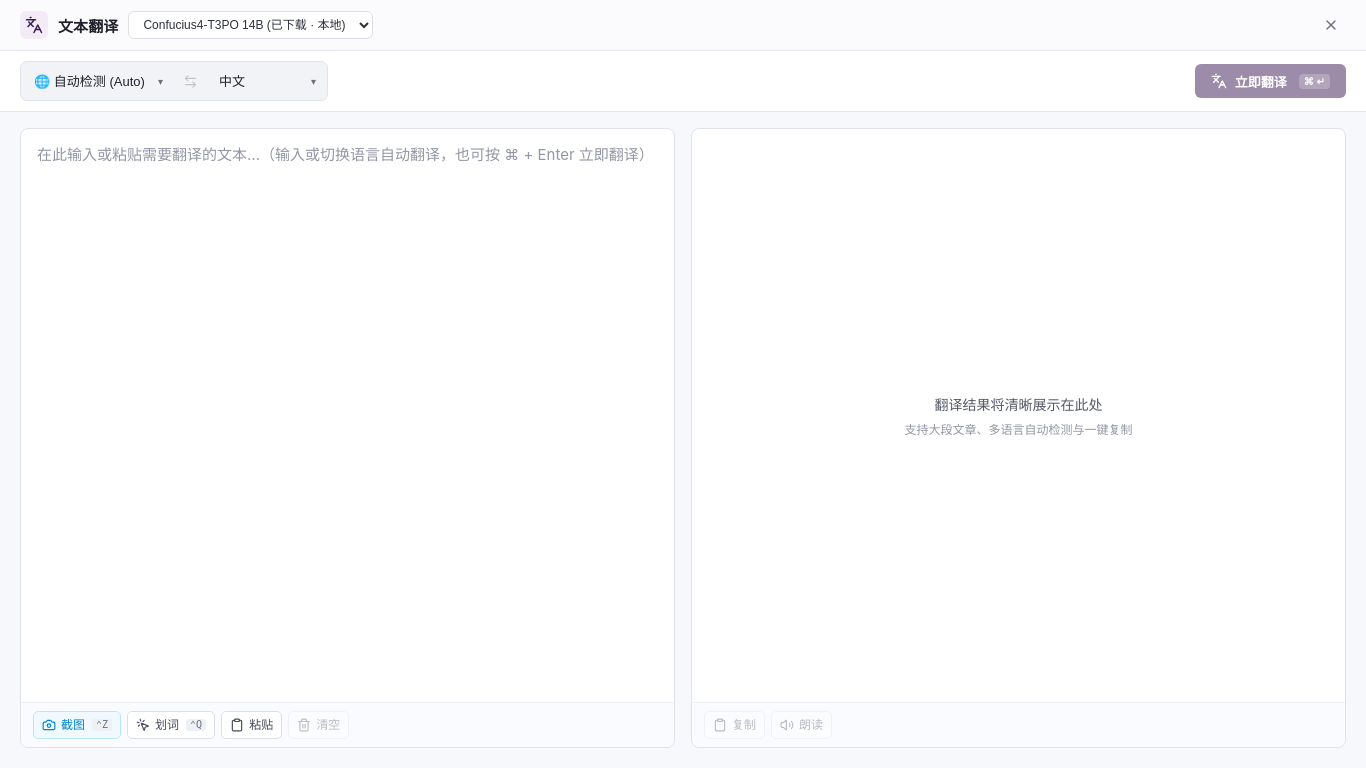
Test: TextTranslationView › translates input text when translate button is clicked
In the text box with placeholder "在此输入或粘贴需要翻译的文本...（输入或切换语言自动翻译，也可按 ⌘ + Enter 立即翻译）": point(348, 416) left=21, top=129, right=674, bottom=702, type "Hello world"
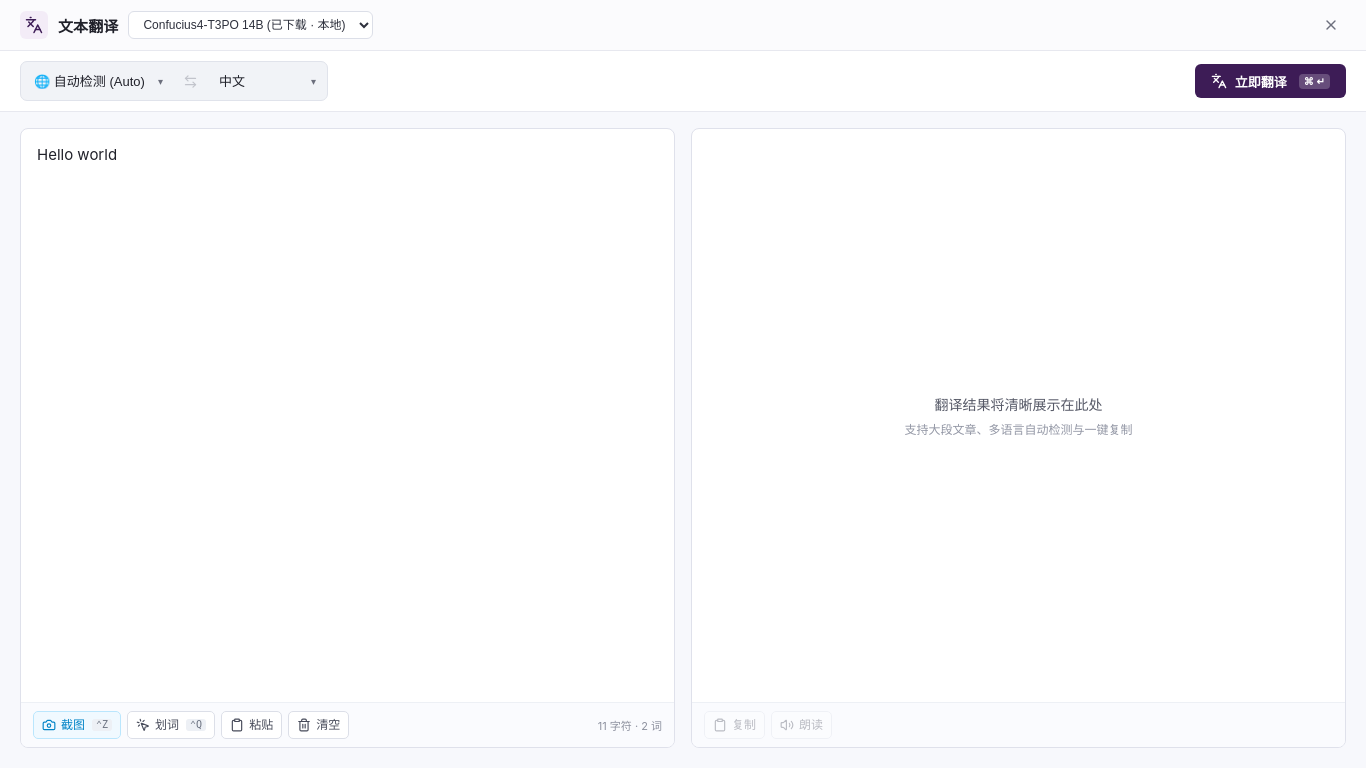
Click the button "立即翻译 ⌘ ↵": point(1270, 81) left=1195, top=64, right=1346, bottom=98
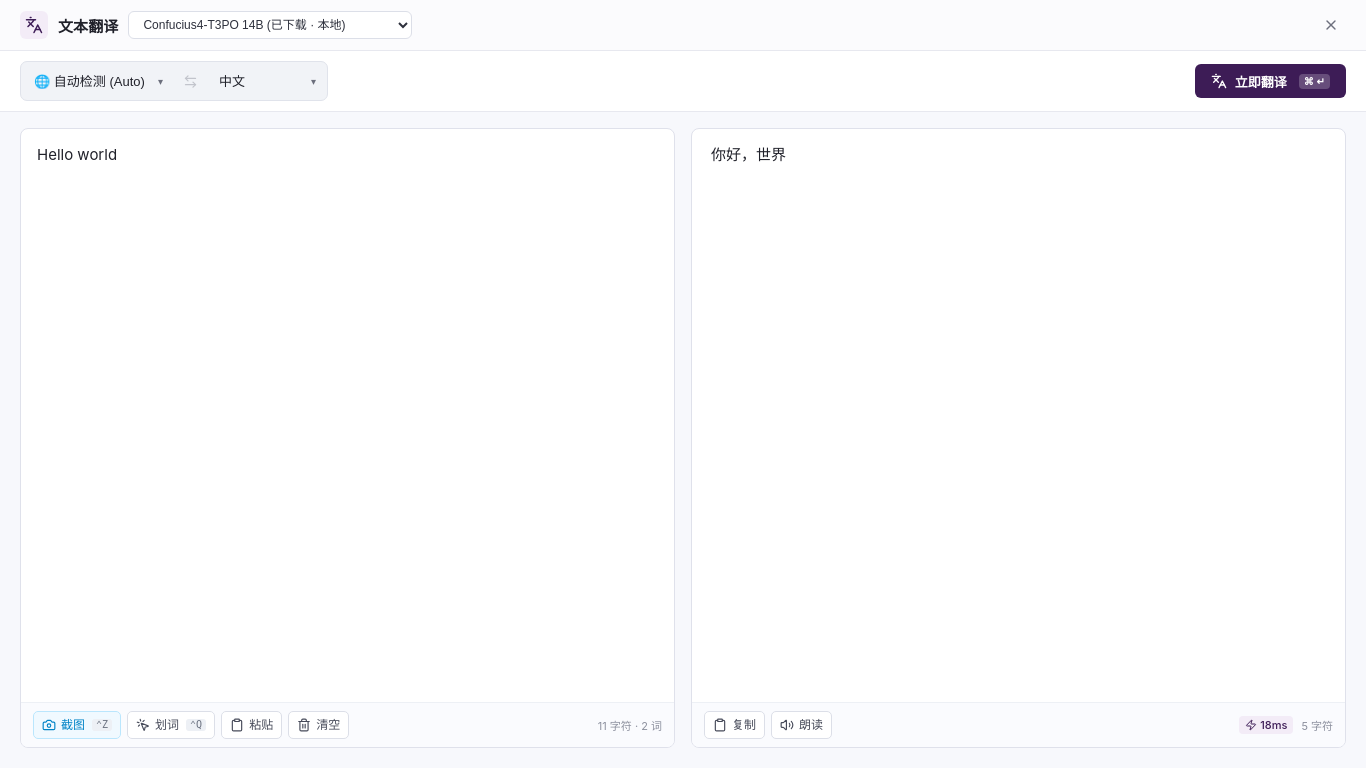
expect the text "你好，世界" is shown: met, box left=708, top=144, right=789, bottom=165
